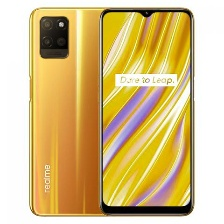phone: (22, 1, 135, 219), (97, 4, 196, 218)
